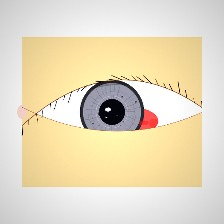hemorrhage_spot: (87, 88, 170, 154)
